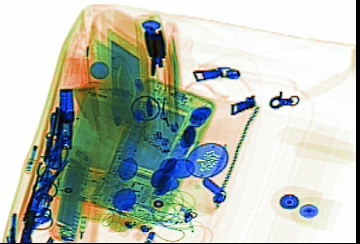powerbank: (51, 145, 91, 241)
